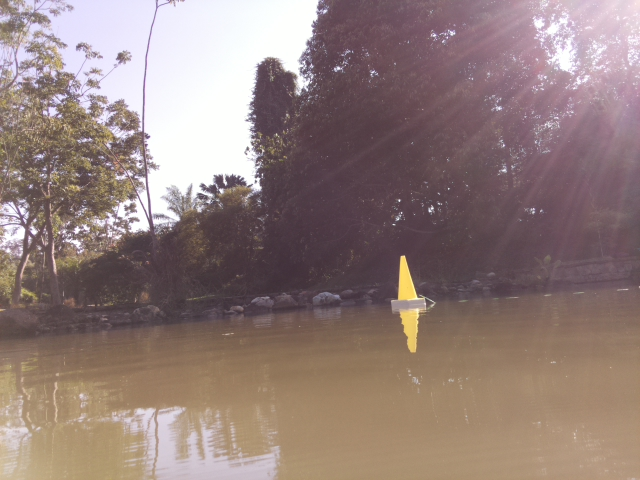checkpoint: (390, 254, 427, 308)
